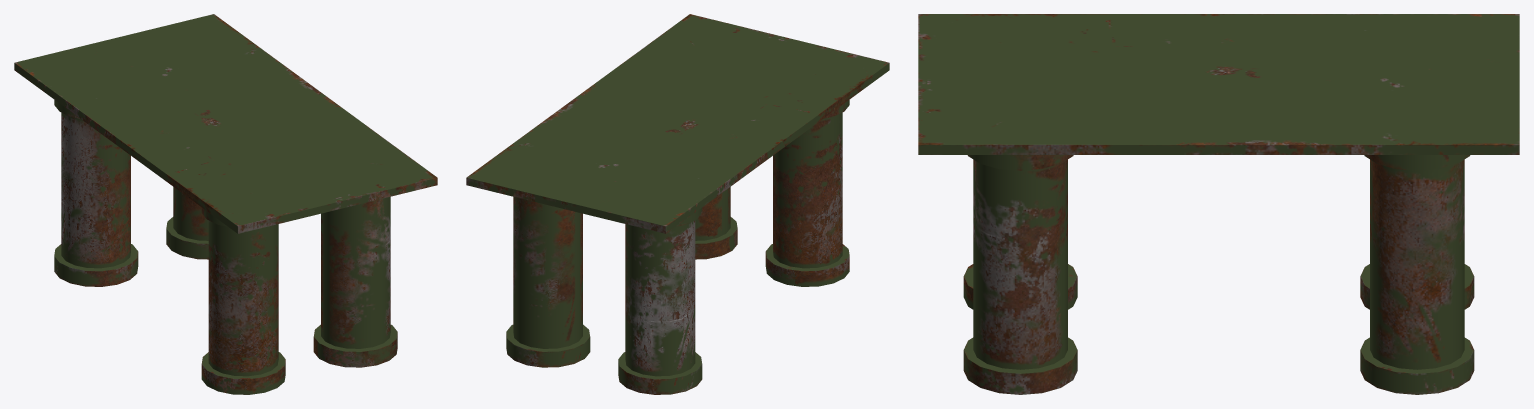
Rendered from Table.fbx.
3 renders of one model, left to right at view 1: azimuth 30°, elevation 25°; view 2: azimuth 150°, elevation 25°; view 3: azimuth 270°, elevation 25°, orthographic. The views are drawn at different scales.
Parts seen in each view (by area): view 1: Table; view 2: Table; view 3: Table.
Part boxes in pixels (x1=…): Table: x1=14, y1=14, x2=437, y2=394; Table: x1=466, y1=14, x2=889, y2=394; Table: x1=918, y1=14, x2=1519, y2=394.
Bounding box in the file's own units: 1 × 0.9058 × 1.94.
